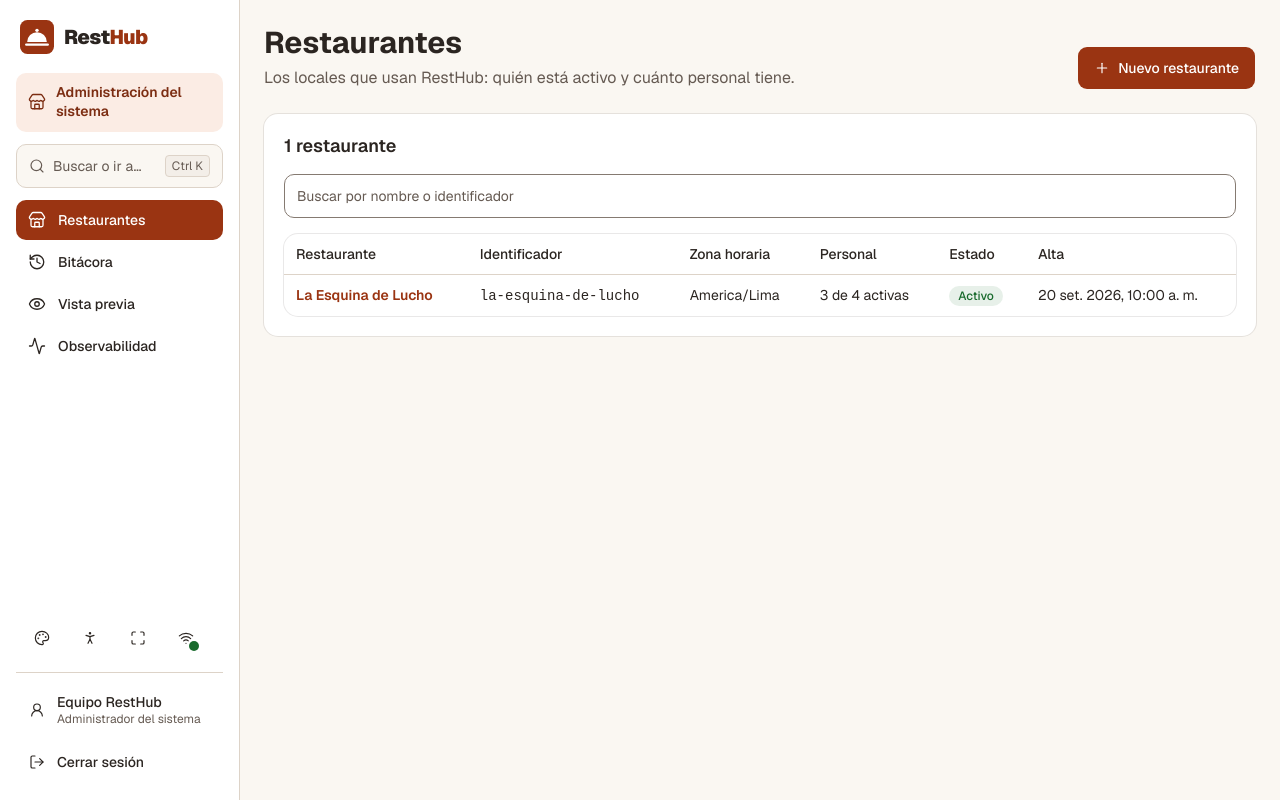
Test case: RestaurantsView › busca por nombre en el servidor y desde la primera página
Expected: the row "La Esquina" is shown, x1=284 y1=274 x2=1236 y2=316
In the search field labelled "Buscar por nombre o identificador": [760, 196] box x1=284 y1=174 x2=1236 y2=218, type "pollos"
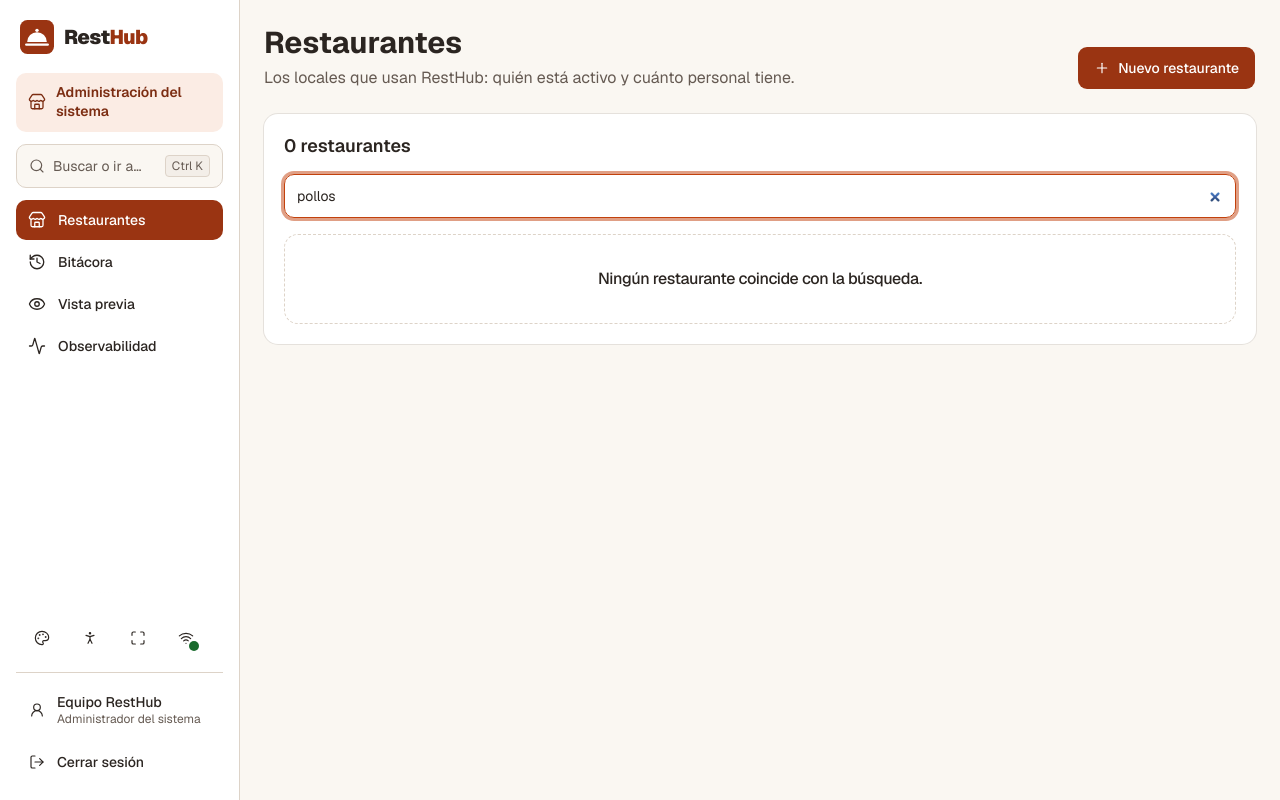
Expected: the text "Ningún restaurante coincide con la búsqueda." is shown, x1=598 y1=267 x2=922 y2=291
